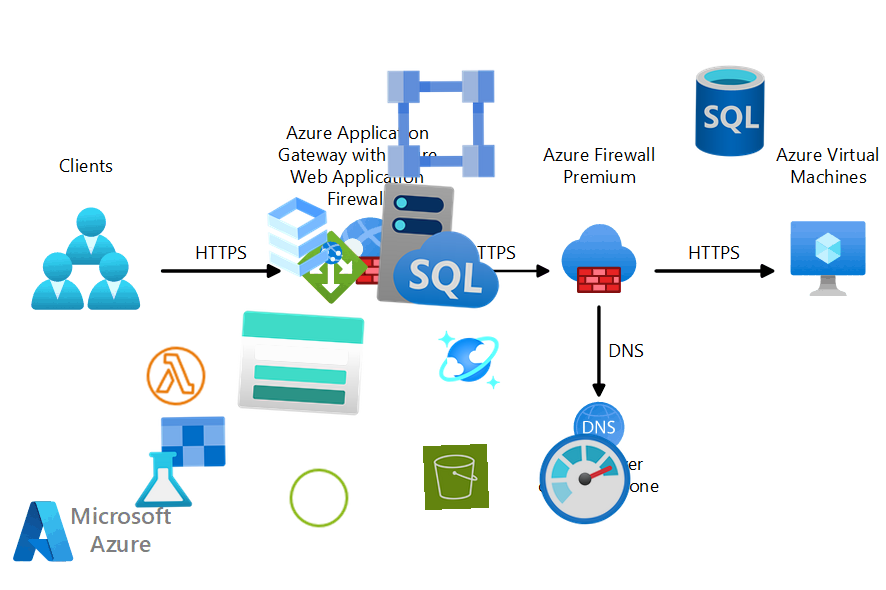aws_amazon_simple_storage_service: (422, 443, 490, 511)
aws_lambda_lambda_function: (142, 342, 210, 410)
aws_simple_storage_service_object: (286, 465, 352, 531)
azure_cosmos_db: (435, 326, 503, 394)
azure_machine_learning_studio_workspaces: (131, 413, 229, 511)
azure_monitor: (534, 428, 636, 530)
azure_sql_database: (681, 62, 779, 160)
azure_sql_managed_instance: (372, 177, 510, 315)
azure_storage_accounts: (233, 295, 369, 431)
gcp_cloud_sql: (247, 186, 349, 288)
gcp_virtual_private_cloud: (376, 59, 506, 189)
